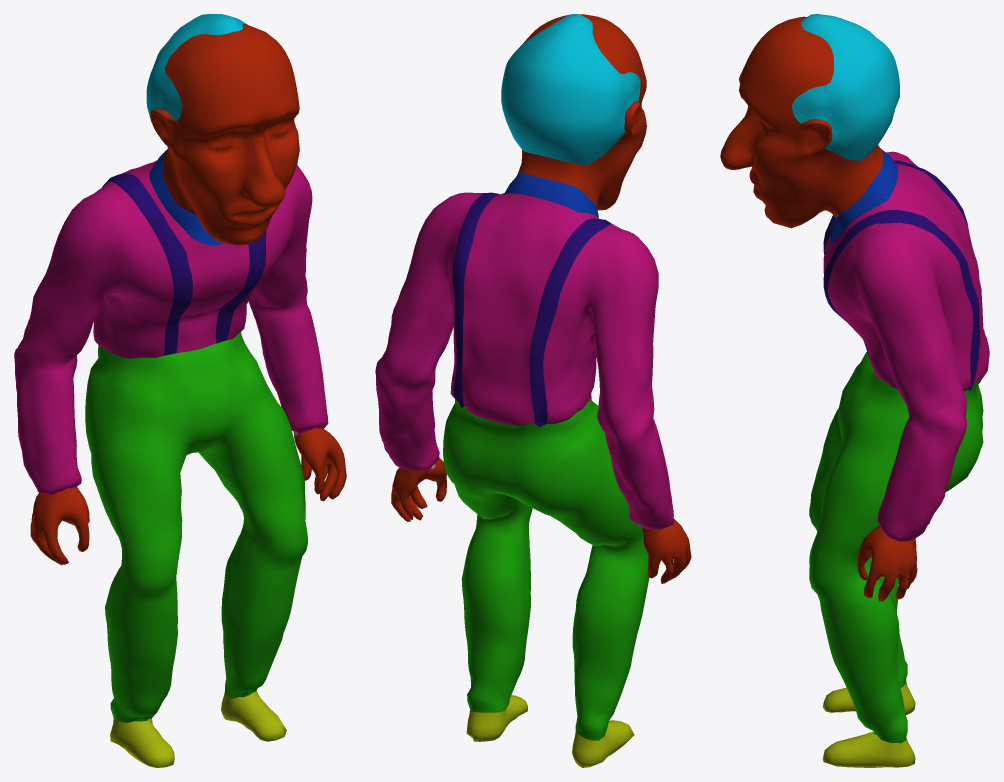
Rendered from RonnieDoshLP With VP.fbx.
3 views of the same model, side by side, from view 1: azimuth 30°, elevation 25°; view 2: azimuth 150°, elevation 25°; view 3: azimuth 270°, elevation 25° (orthographic). The views are drawn at different scales.
Visible parts, largest first — view 1: RonnieDoshLP with smoothing; view 2: RonnieDoshLP with smoothing; view 3: RonnieDoshLP with smoothing.
Boxes of the visible parts, x1,y1,x2,y2 form: RonnieDoshLP with smoothing: (14,14,346,767); RonnieDoshLP with smoothing: (375,14,691,767); RonnieDoshLP with smoothing: (720,14,989,767).
Bounding box in the file's own units: 0.5169 × 1.2 × 0.4062.
